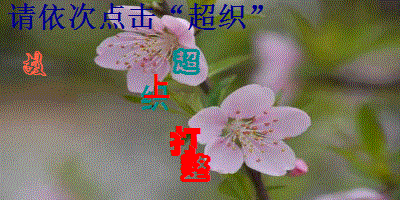result: (187, 2, 248, 32)
text: (168, 123, 202, 160), (178, 151, 214, 183), (170, 45, 204, 77), (139, 83, 171, 113), (19, 50, 50, 77), (143, 72, 172, 100)
